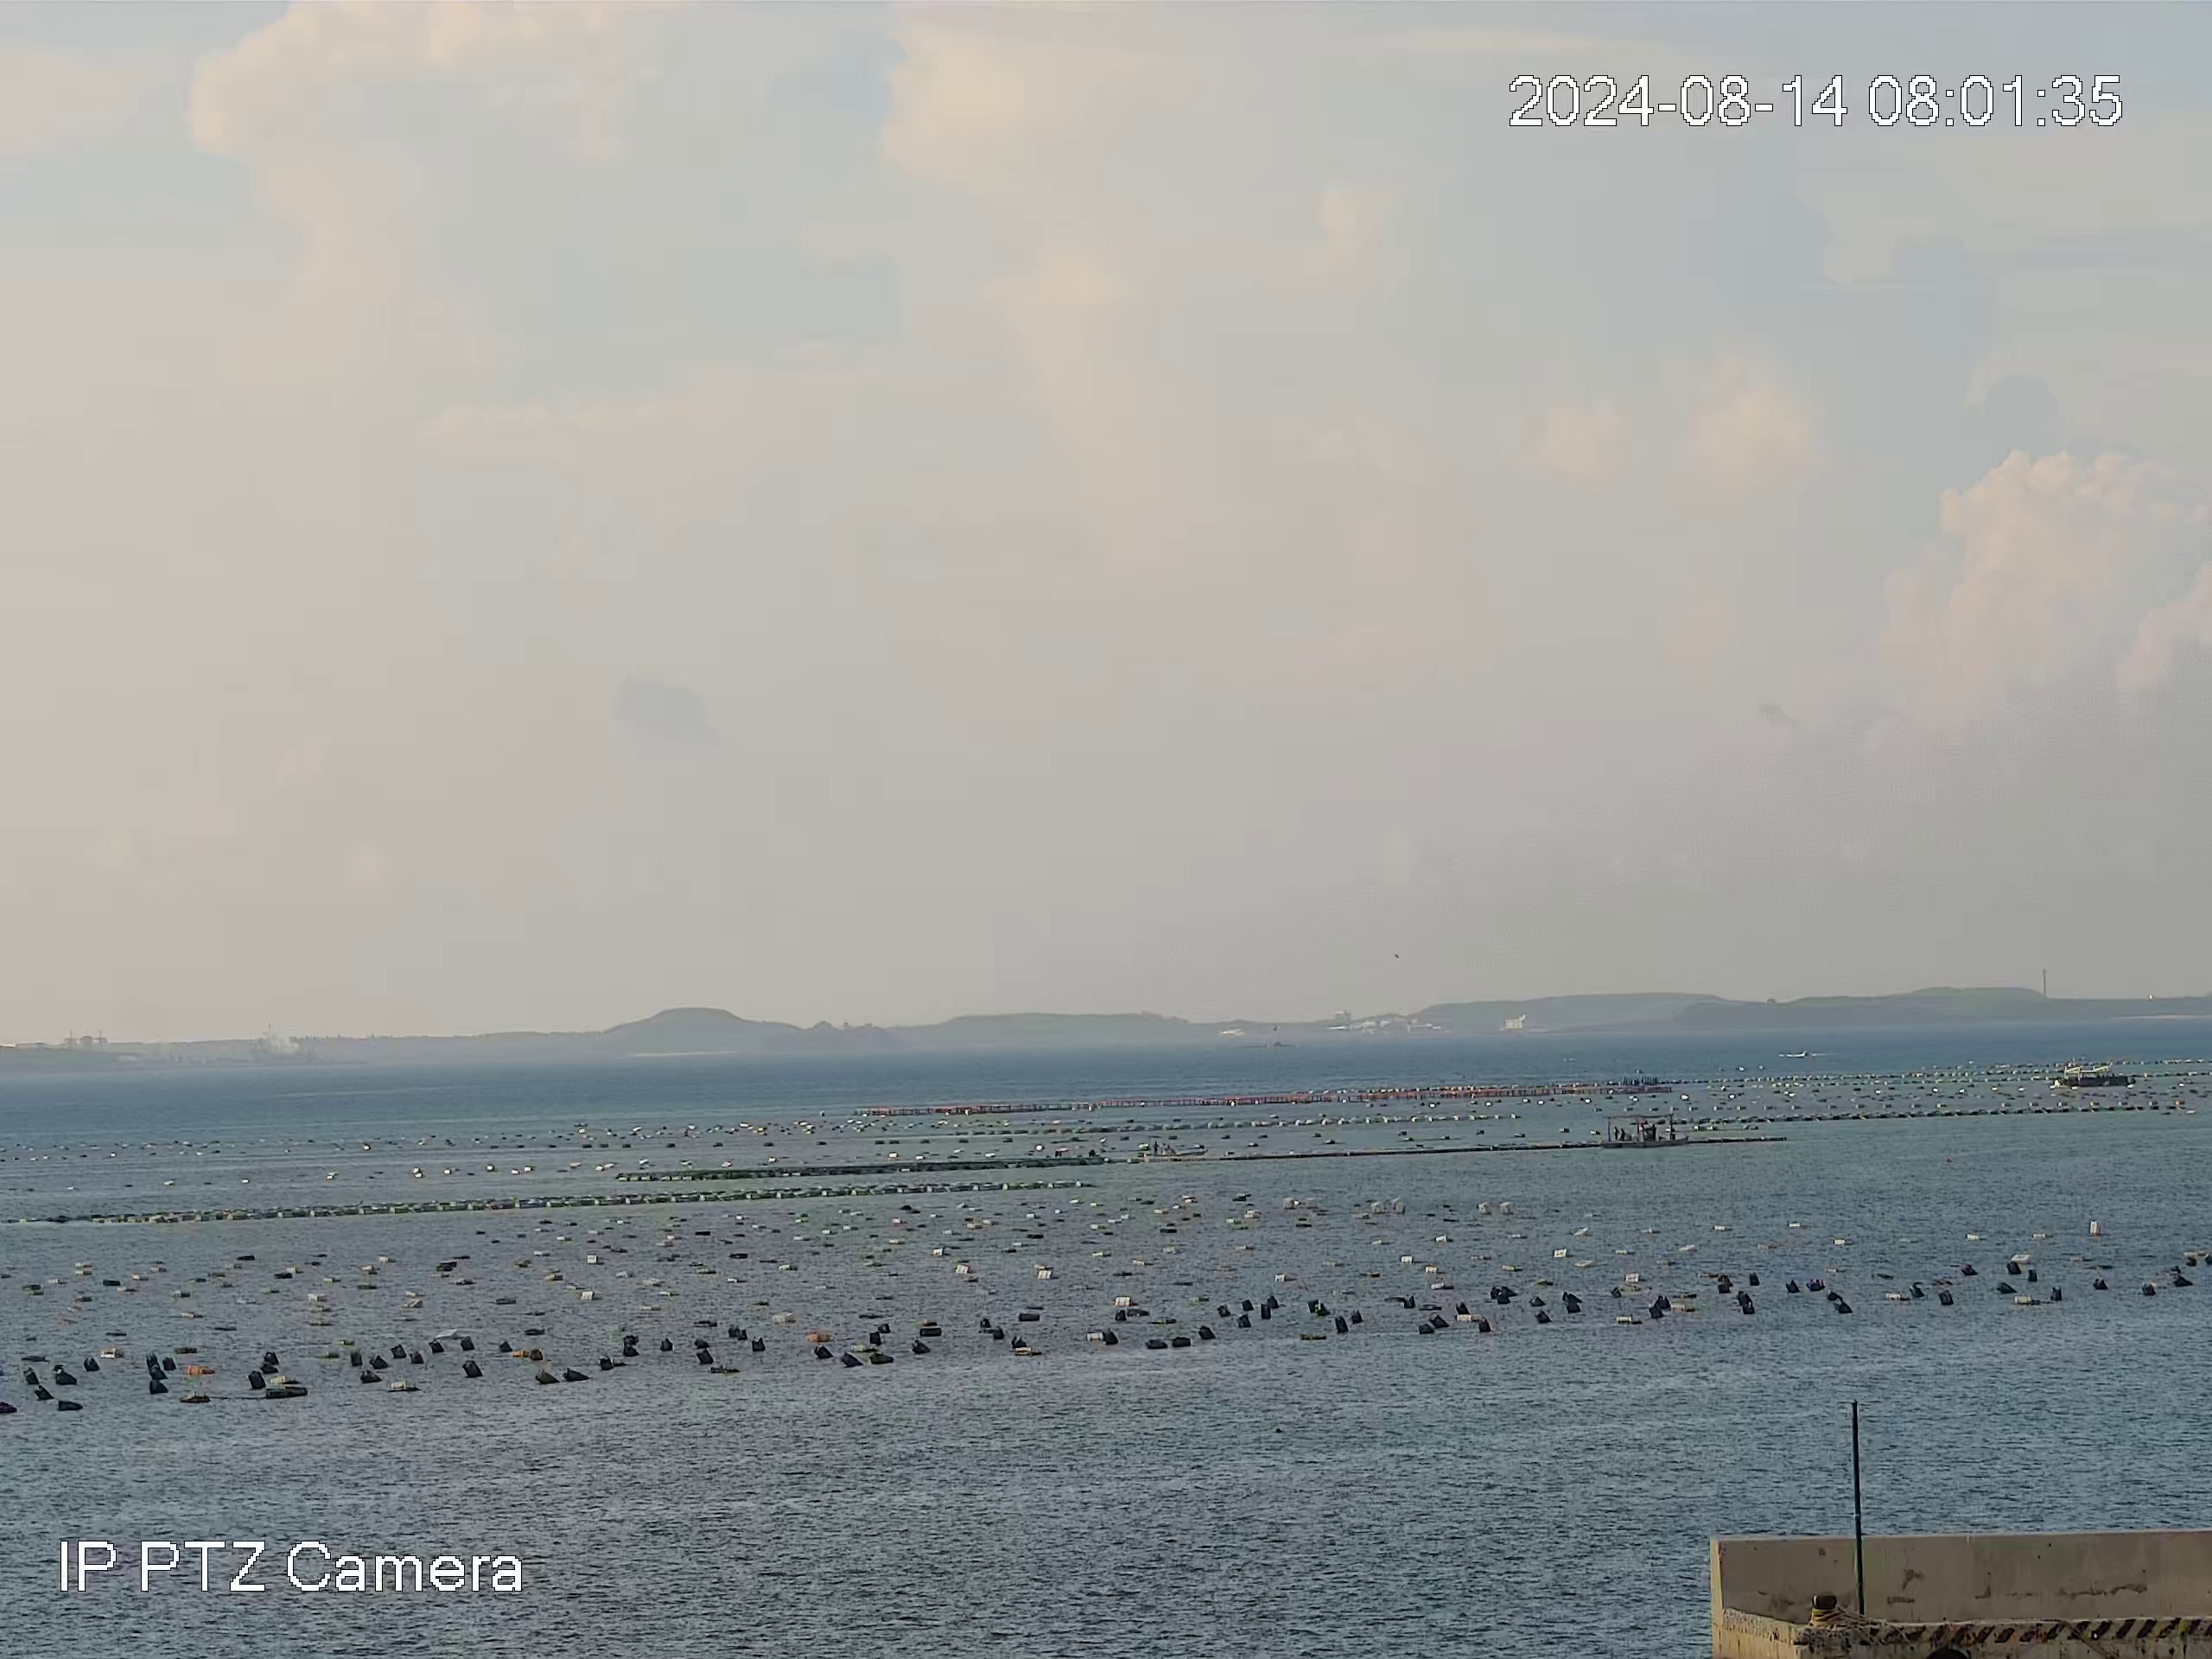boat: (1599, 1111, 1692, 1148), (2054, 1060, 2133, 1089)
